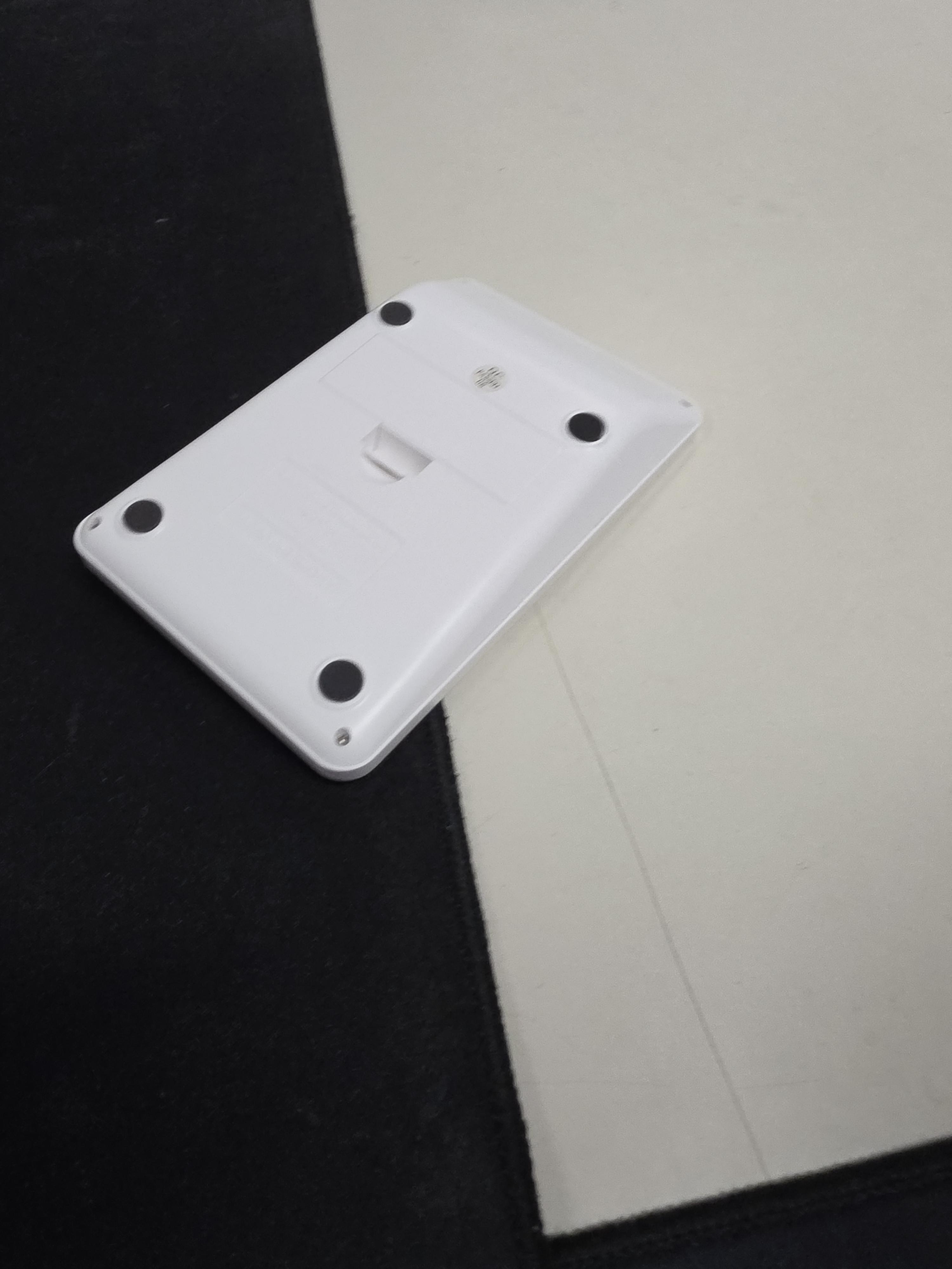calculator: (72, 278, 705, 783)
